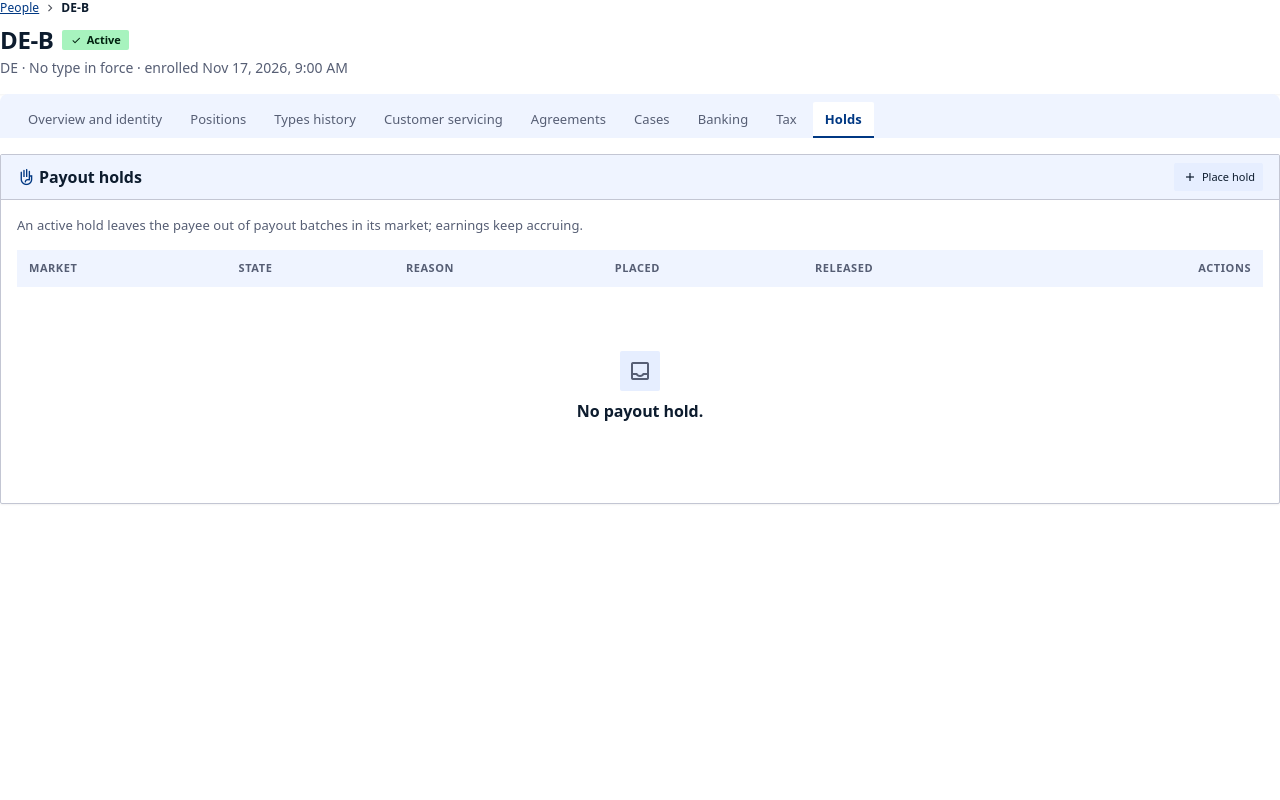
Scenario: SC-09 Holds and Balances › places and releases a hold with a reason
Click the button "Place hold" at (1218, 177), box left=1174, top=163, right=1263, bottom=191
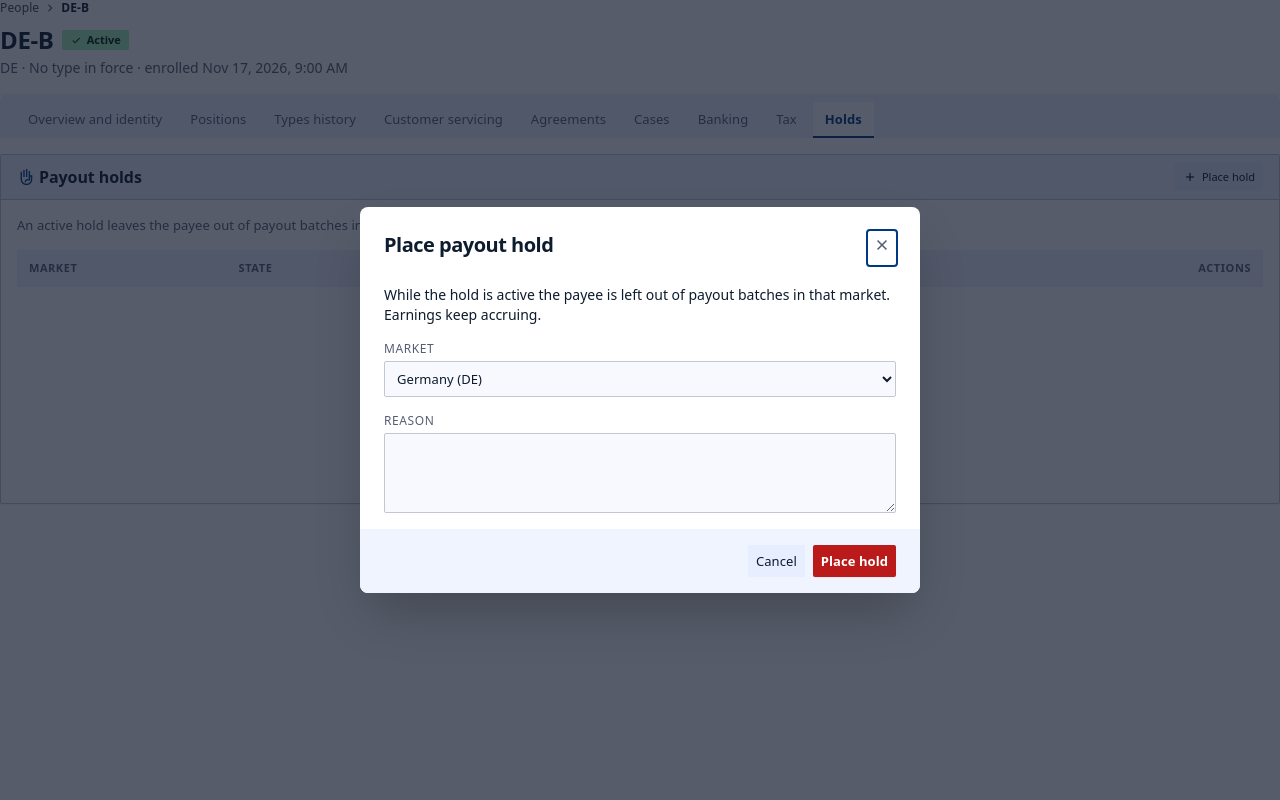
Click the button "Place hold" at (854, 561), box left=813, top=545, right=896, bottom=577
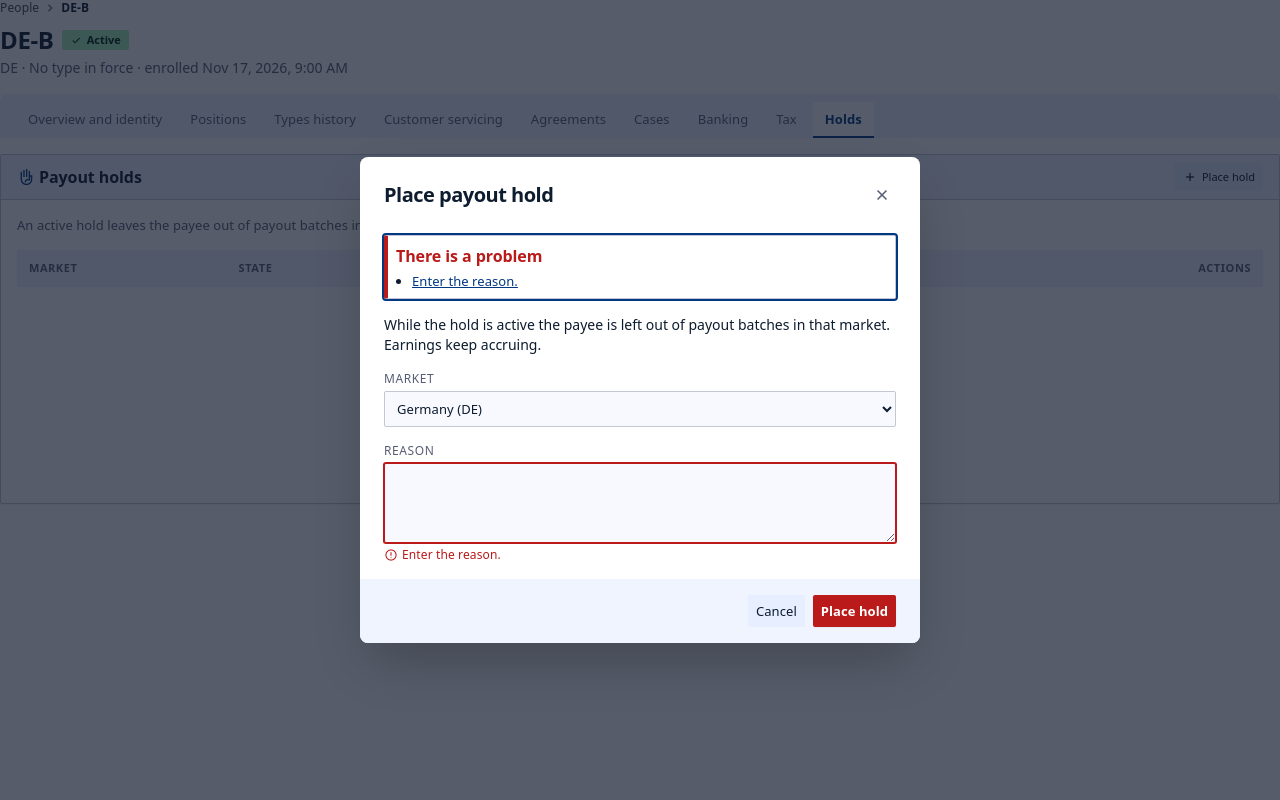
Type "E2E hold" into the text box labelled "Reason" at (640, 503), box left=384, top=463, right=896, bottom=543
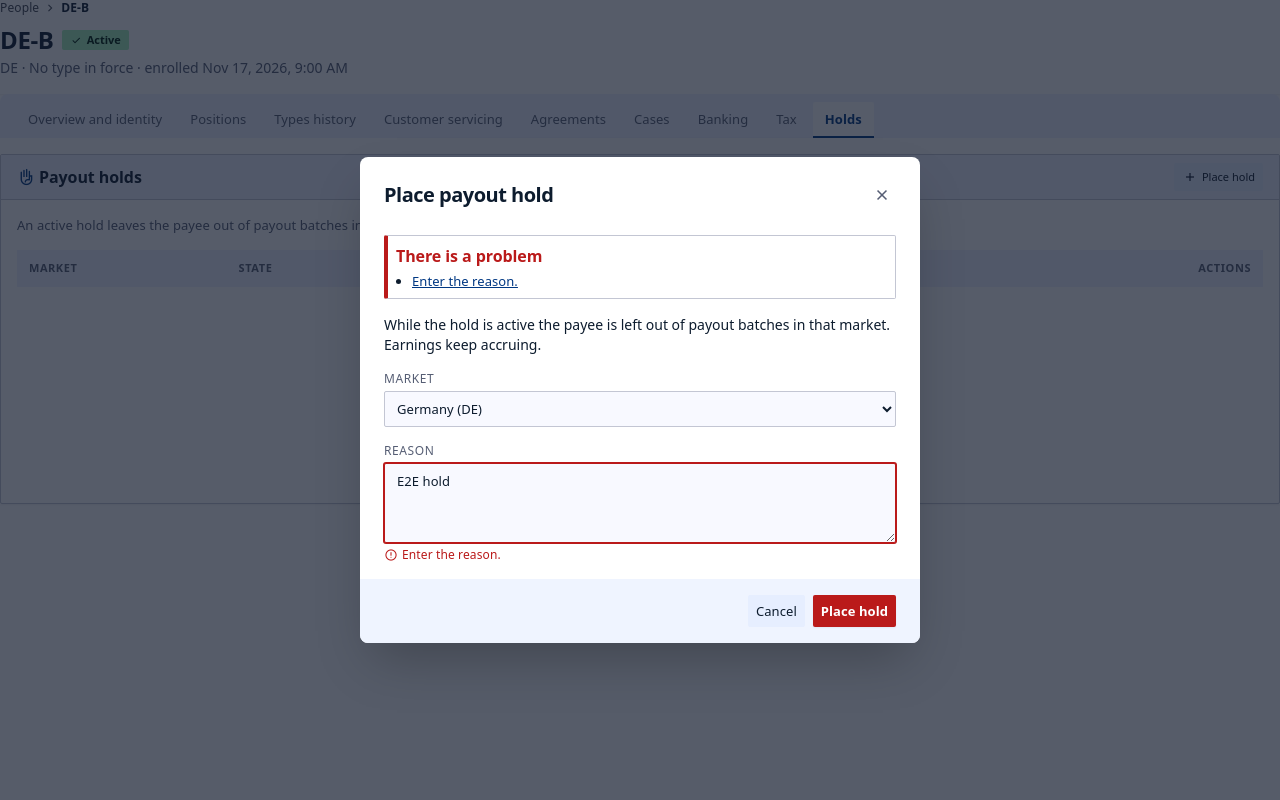
Click the button "Place hold" at (854, 611), box left=813, top=595, right=896, bottom=627
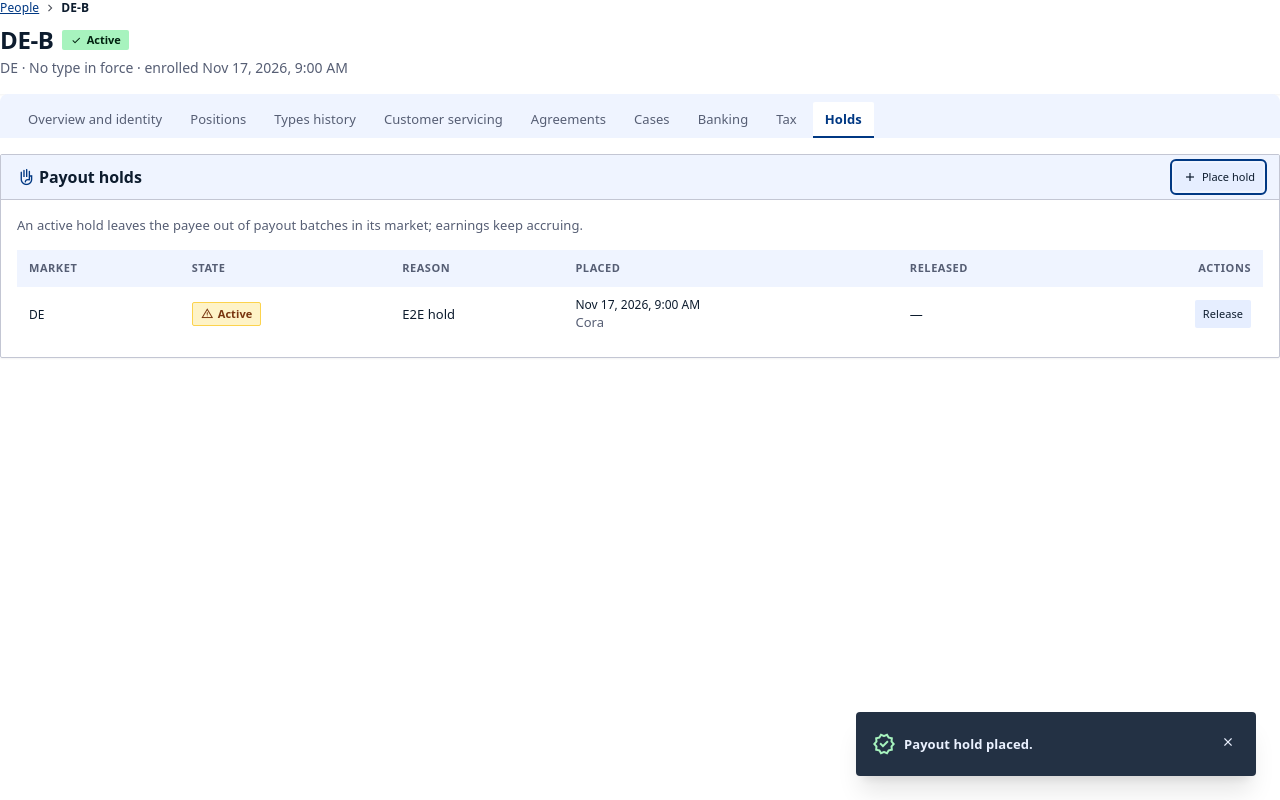
Check: the text "Payout hold placed." is shown, box left=904, top=735, right=1033, bottom=753
Click the button with aria-label "Release the hold in DE" at (1223, 314), box left=1195, top=300, right=1251, bottom=328
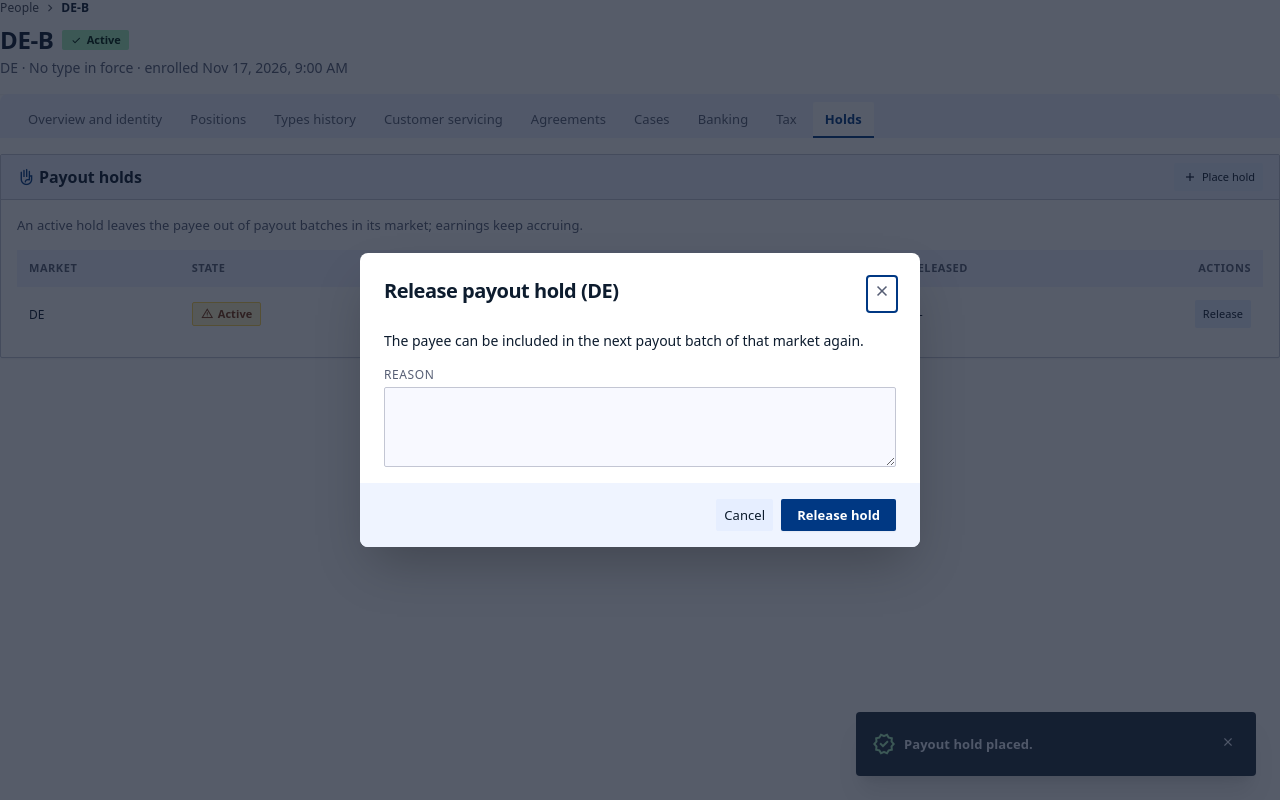
Type "Checked" into the text box labelled "Reason" at (640, 427), box left=384, top=387, right=896, bottom=467
Click the button "Release hold" at (839, 515), box left=781, top=499, right=896, bottom=531
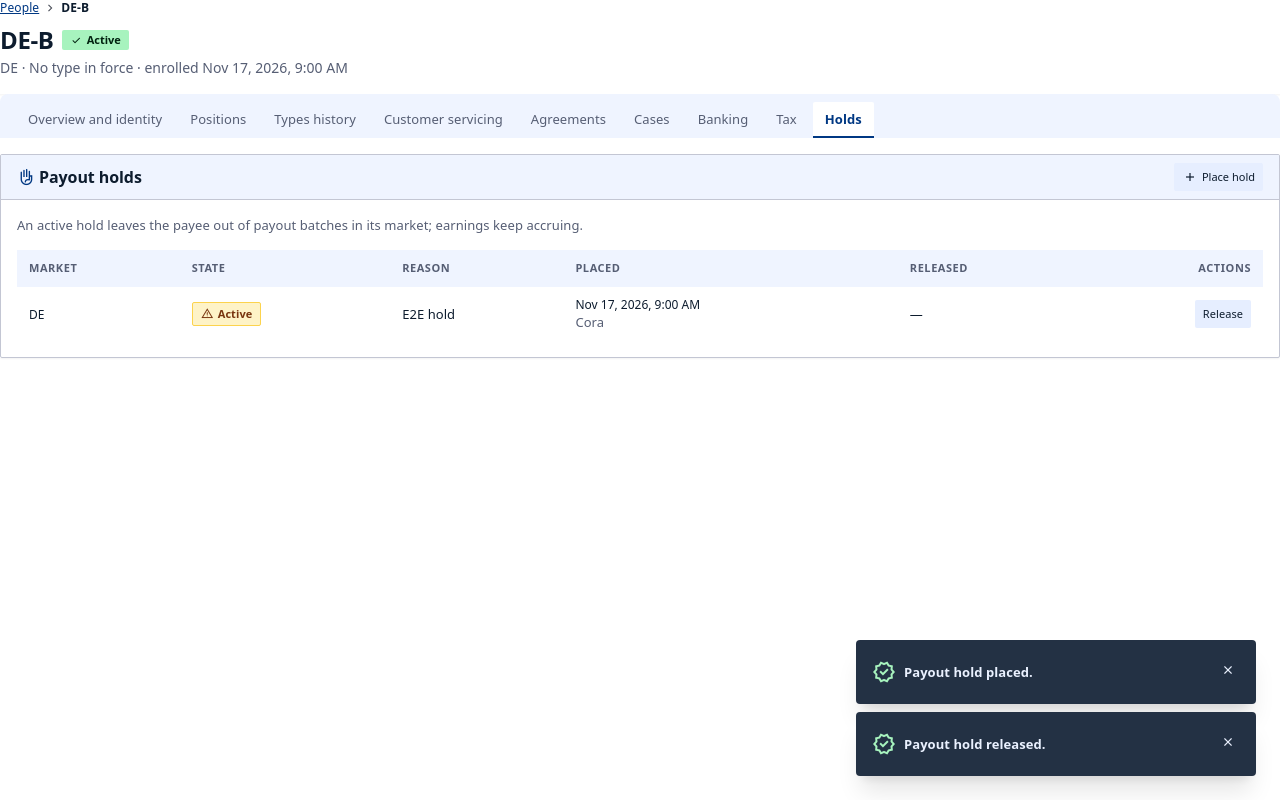
Check: the text "Payout hold released." is shown, box left=904, top=735, right=1046, bottom=753
